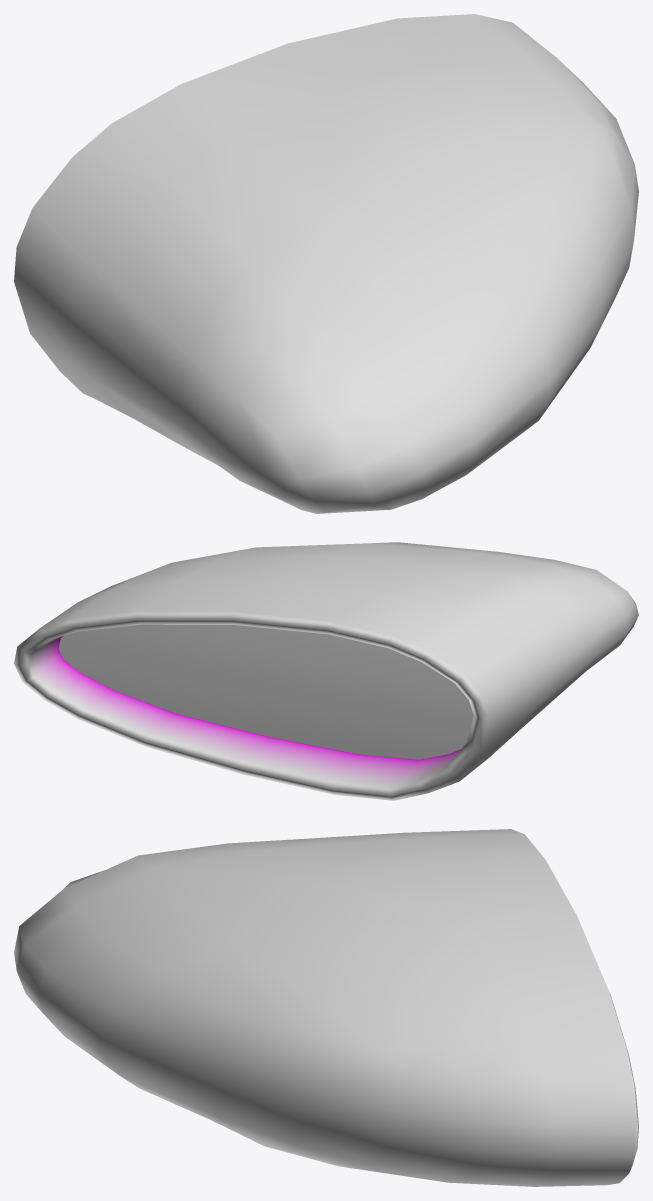
File: Car_Ford_GT_2017_MirrorL_SetE.fbx
The picture shows the model from 3 angles, top to bottom: view 1: azimuth 30°, elevation 25°; view 2: azimuth 150°, elevation 25°; view 3: azimuth 270°, elevation 25°; orthographic projection. The views are drawn at different scales.
Parts seen in each view (by area): view 1: MirrorL 6; view 2: MirrorL 6; view 3: MirrorL 6.
Boxes of the visible parts, x1=… form: MirrorL 6: x1=14, y1=14, x2=638, y2=513; MirrorL 6: x1=14, y1=542, x2=638, y2=800; MirrorL 6: x1=14, y1=829, x2=638, y2=1186.
Bounding box in the file's own units: 0.1911 × 0.0798 × 0.1882.
